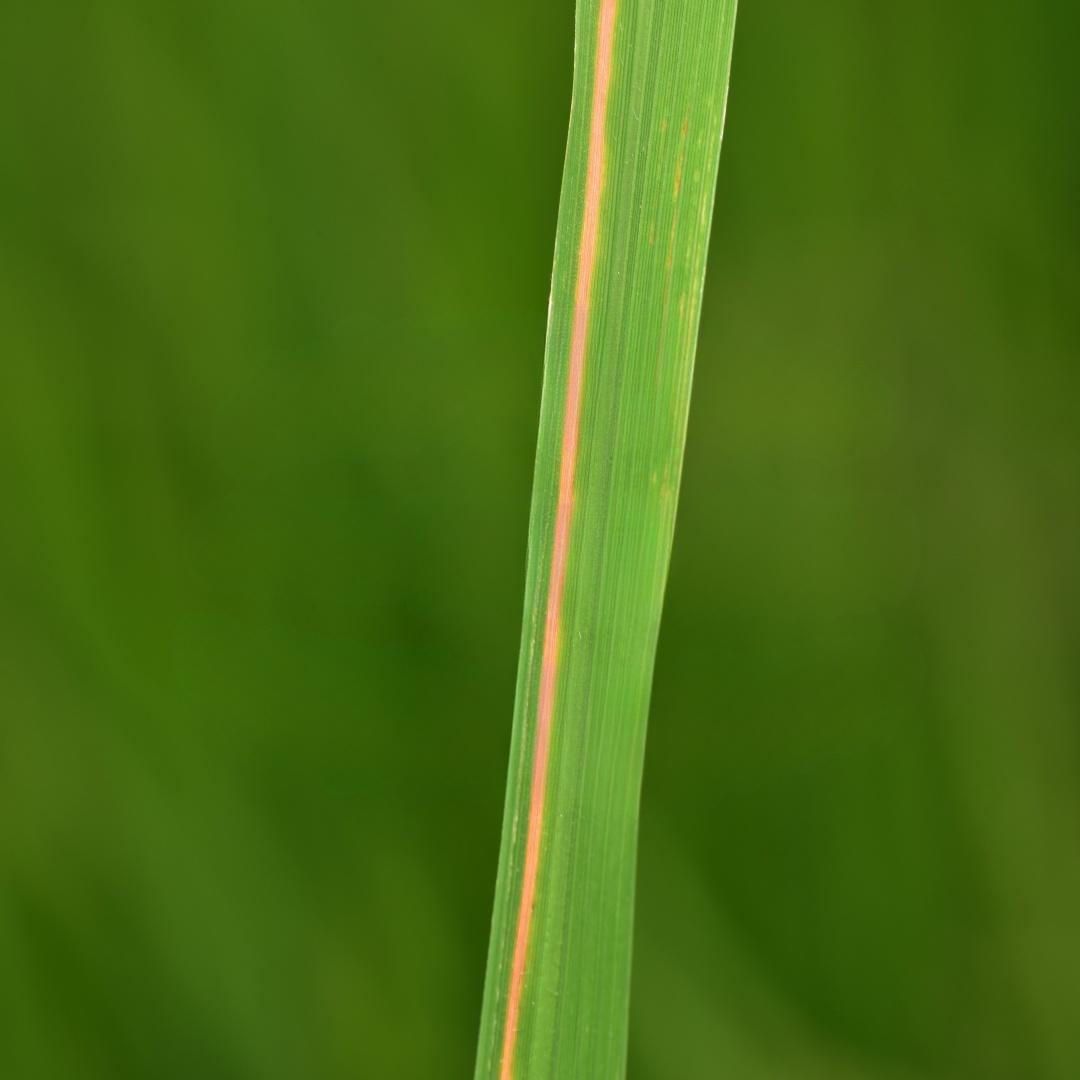BLB: (499, 0, 616, 1079)
LEAF: (475, 0, 736, 1079)
